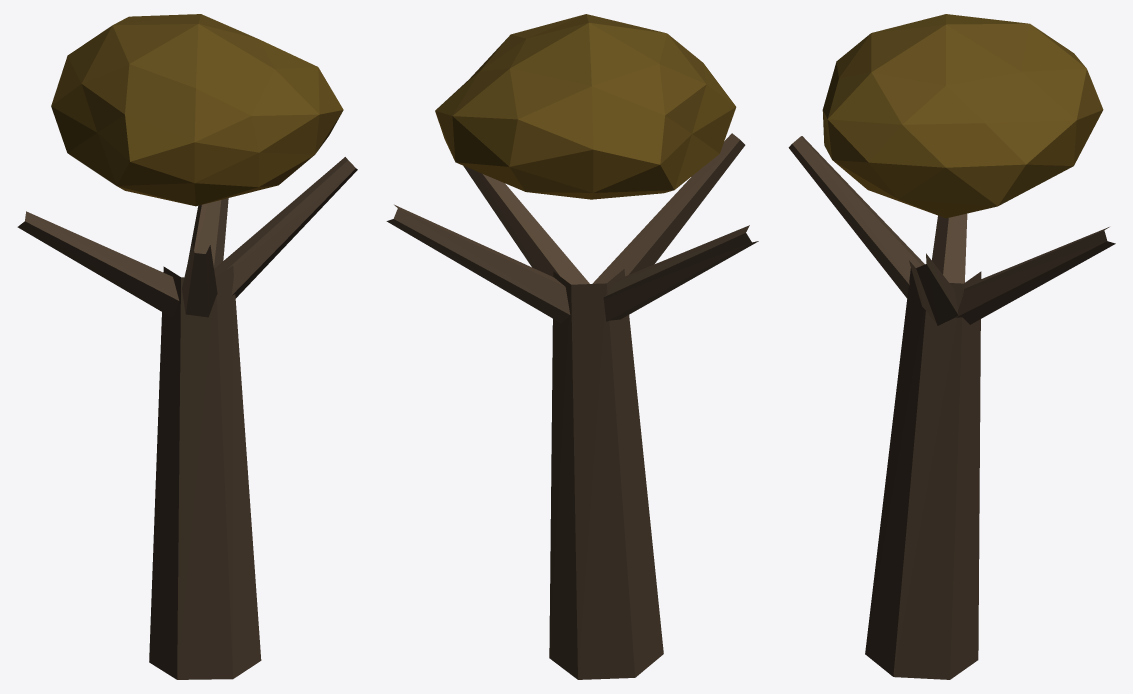
File: 1988-Low-poly-plant-models-ipeYellow.glb
3 renders of one model, left to right at view 1: azimuth 30°, elevation 25°; view 2: azimuth 150°, elevation 25°; view 3: azimuth 270°, elevation 25°, orthographic. The views are drawn at different scales.
Visible parts, largest first — view 1: Low-poly plant models/ipeYellow; view 2: Low-poly plant models/ipeYellow; view 3: Low-poly plant models/ipeYellow.
Part boxes in pixels (<box>): Low-poly plant models/ipeYellow: <box>17,14,357,679</box>; Low-poly plant models/ipeYellow: <box>386,14,758,679</box>; Low-poly plant models/ipeYellow: <box>788,14,1115,679</box>.
Bounding box in the file's own units: 0.3556 × 0.6721 × 0.315.
